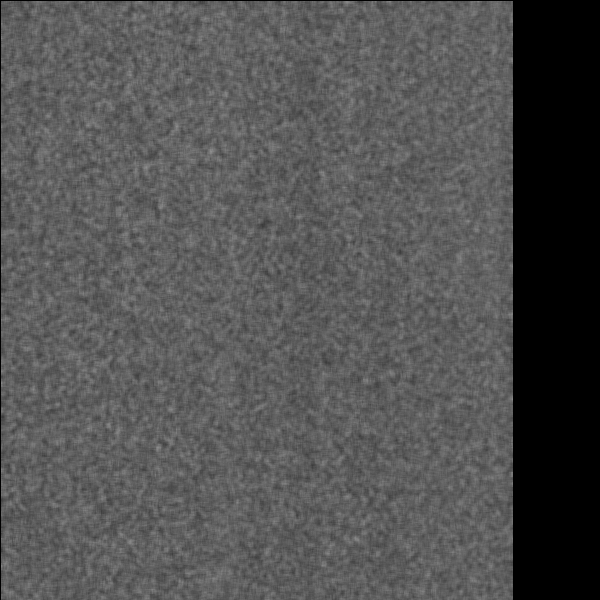spark: (467, 223, 495, 279), (38, 484, 60, 527)
